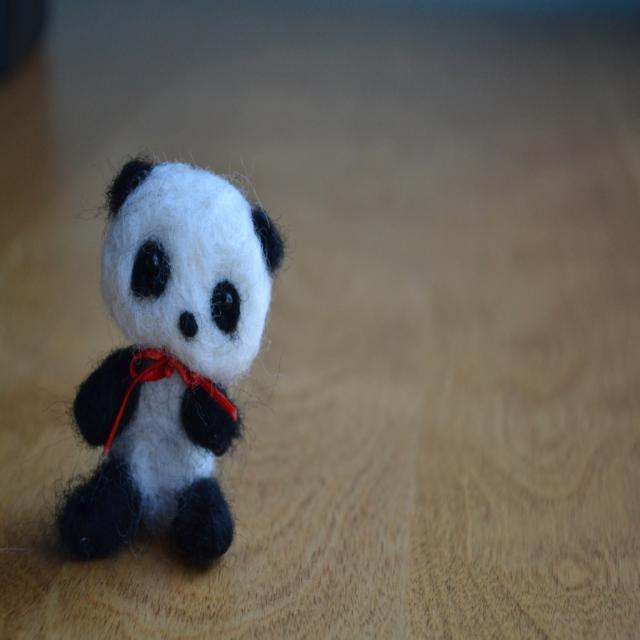panda: (40, 148, 286, 576)
